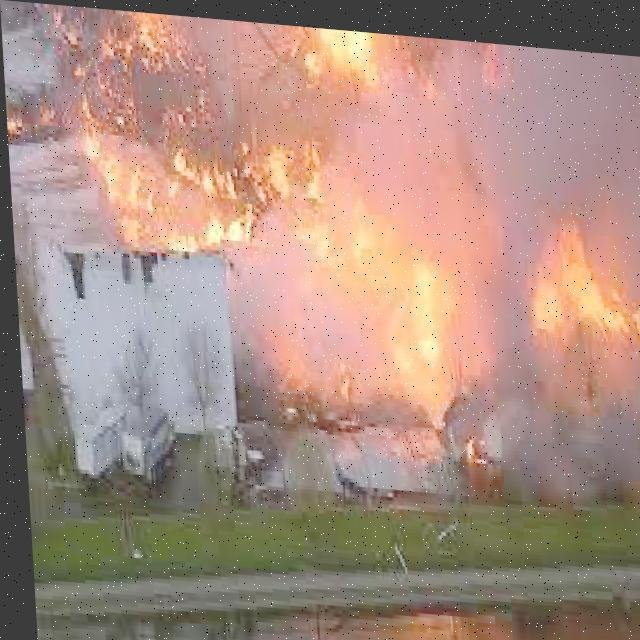Fire: (58, 16, 324, 280), (328, 178, 478, 428), (498, 186, 639, 377)
